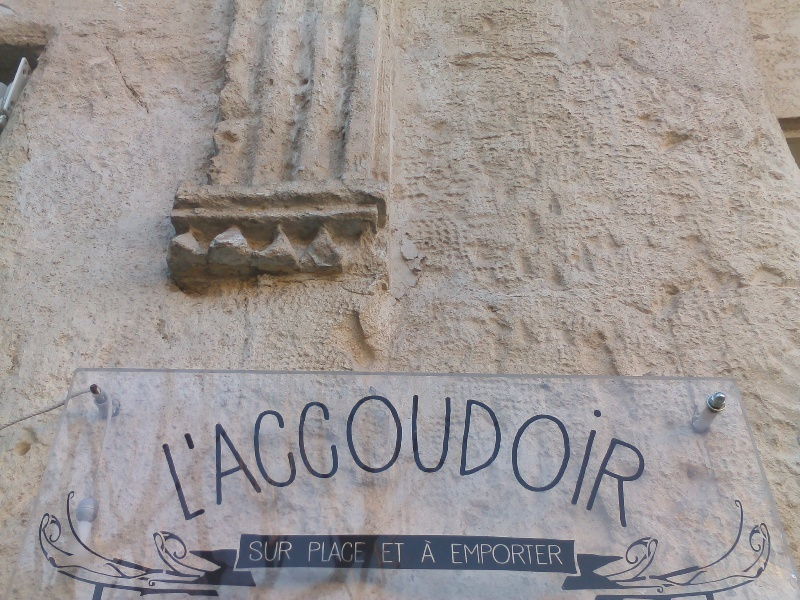text: (161, 387, 176, 533), (177, 387, 192, 533), (193, 387, 208, 533), (209, 387, 224, 533), (225, 387, 240, 533), (241, 387, 256, 533), (257, 387, 272, 533), (273, 387, 288, 533), (289, 387, 304, 533), (305, 387, 320, 533), (321, 387, 336, 533), (337, 387, 352, 533), (353, 387, 368, 533), (369, 387, 384, 533), (385, 387, 400, 533), (401, 387, 416, 533), (417, 387, 432, 533), (433, 387, 448, 533), (449, 387, 464, 533), (465, 387, 480, 533), (481, 387, 496, 533), (497, 387, 512, 533), (513, 387, 528, 533), (529, 387, 544, 533), (545, 387, 560, 533), (561, 387, 576, 533), (577, 387, 592, 533), (593, 387, 608, 533), (609, 387, 624, 533), (625, 387, 640, 533), (641, 387, 652, 533), (150, 387, 160, 533), (465, 543, 480, 566), (481, 543, 496, 566), (497, 543, 512, 566), (513, 543, 528, 566), (529, 543, 544, 566), (545, 543, 560, 566), (257, 540, 272, 562), (273, 540, 288, 562), (385, 542, 400, 564), (321, 542, 336, 563), (337, 542, 352, 563), (451, 543, 464, 566), (353, 542, 367, 563), (309, 542, 320, 563), (422, 540, 432, 563), (250, 540, 256, 562), (401, 542, 406, 564), (289, 540, 293, 562), (433, 540, 436, 563), (561, 543, 564, 566), (381, 542, 384, 564)
